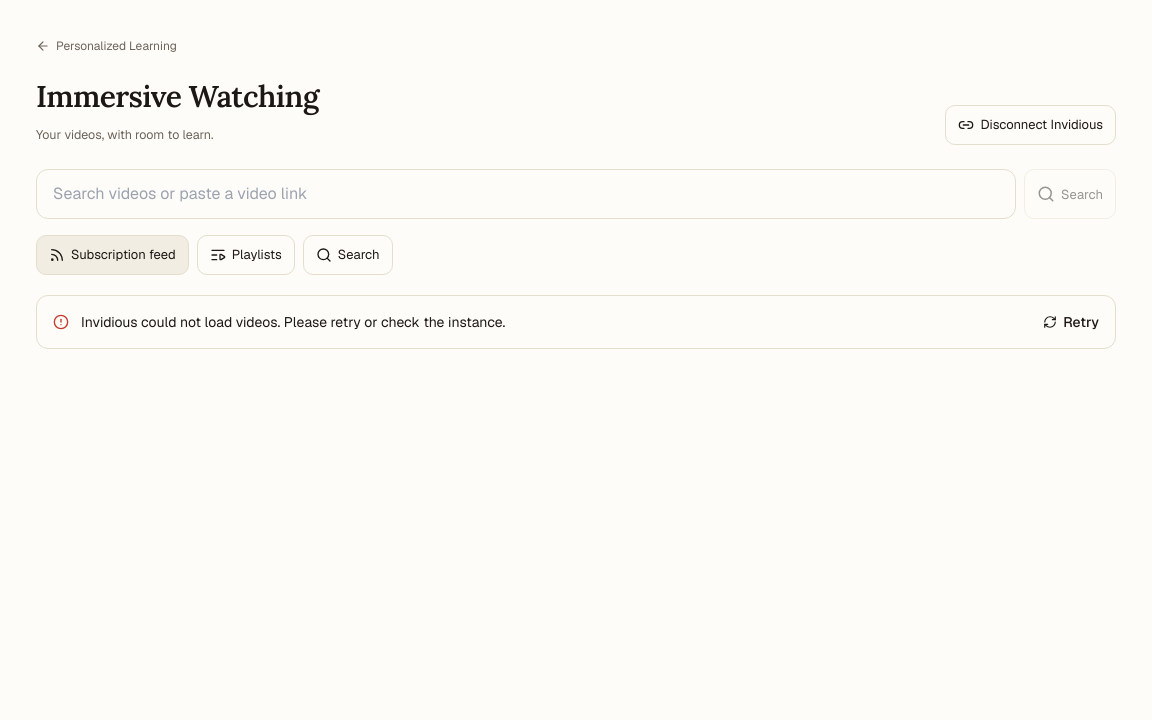
Test case: Watching account browser › shows an actionable instance failure
Expected: the message "Invidious could not load videos. Please retry or check the instance. Retry" is shown, [36, 295, 1116, 349]
Step 1. Click the button "Retry" → (1071, 322), box [1043, 312, 1099, 332]
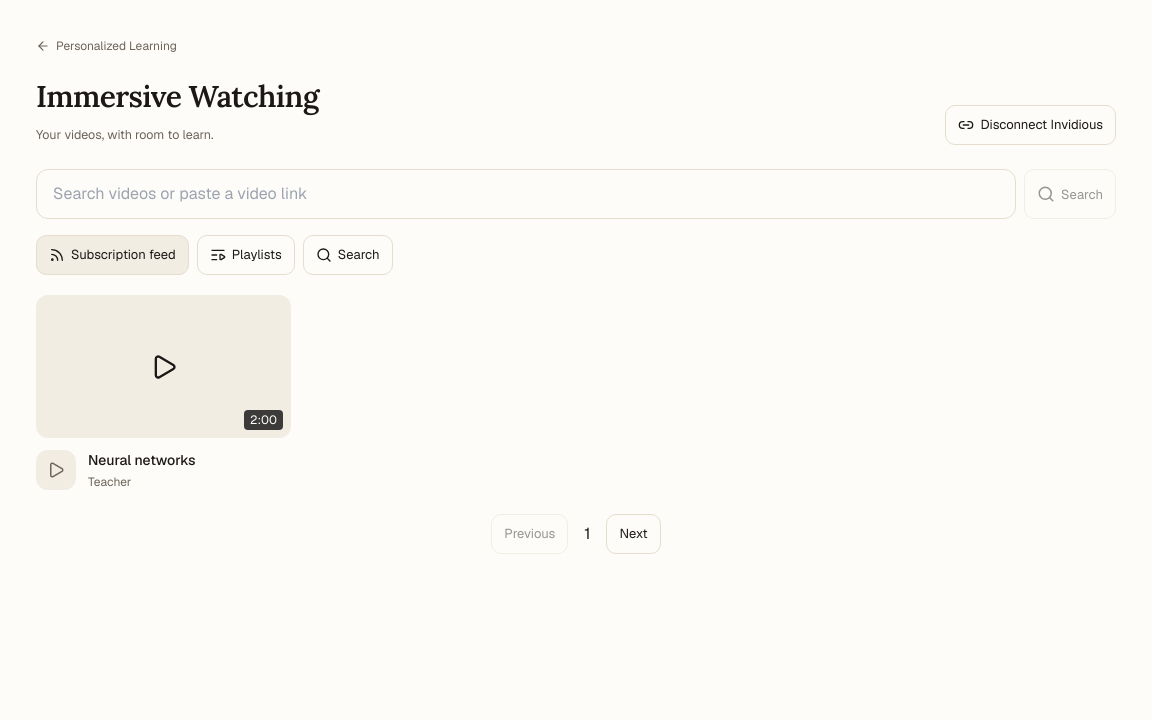
Result: the heading "Neural networks" is shown at [88, 451, 196, 469]
